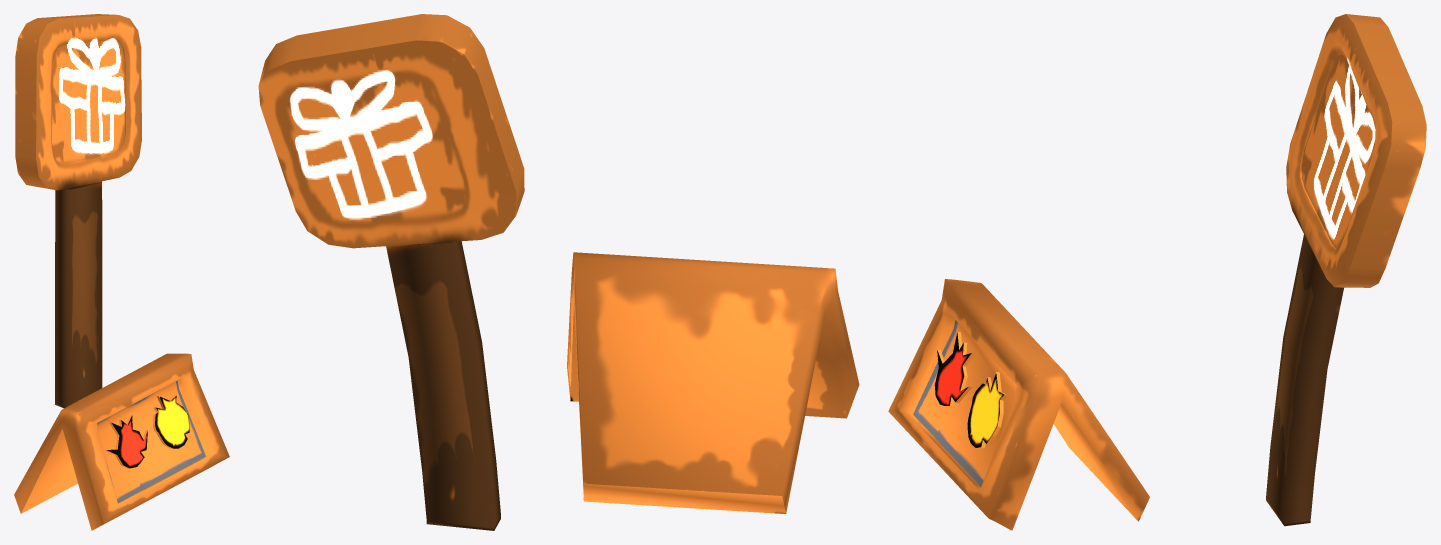
File: Empty_Group_Shop_Lvl_00.fbx
The picture shows the model from 3 angles, left to right: view 1: azimuth 30°, elevation 25°; view 2: azimuth 150°, elevation 25°; view 3: azimuth 270°, elevation 25°; orthographic projection. The views are drawn at different scales.
Visible parts, largest first — view 1: Sign__Shop_Stand_Lvl00, Collectibles_StartProp_Lvl_00; view 2: Sign__Shop_Stand_Lvl00, Collectibles_StartProp_Lvl_00; view 3: Sign__Shop_Stand_Lvl00, Collectibles_StartProp_Lvl_00.
Part boxes in pixels (x1,y1,x2,y2): Sign__Shop_Stand_Lvl00: [15, 14, 141, 408]; Collectibles_StartProp_Lvl_00: [14, 353, 229, 530]; Sign__Shop_Stand_Lvl00: [258, 14, 524, 530]; Collectibles_StartProp_Lvl_00: [567, 252, 859, 513]; Sign__Shop_Stand_Lvl00: [1266, 14, 1426, 526]; Collectibles_StartProp_Lvl_00: [888, 279, 1149, 530].
Size of the model in its own units: 0.4381 by 0.6713 by 0.6313.
2 materials, 2 textured.
